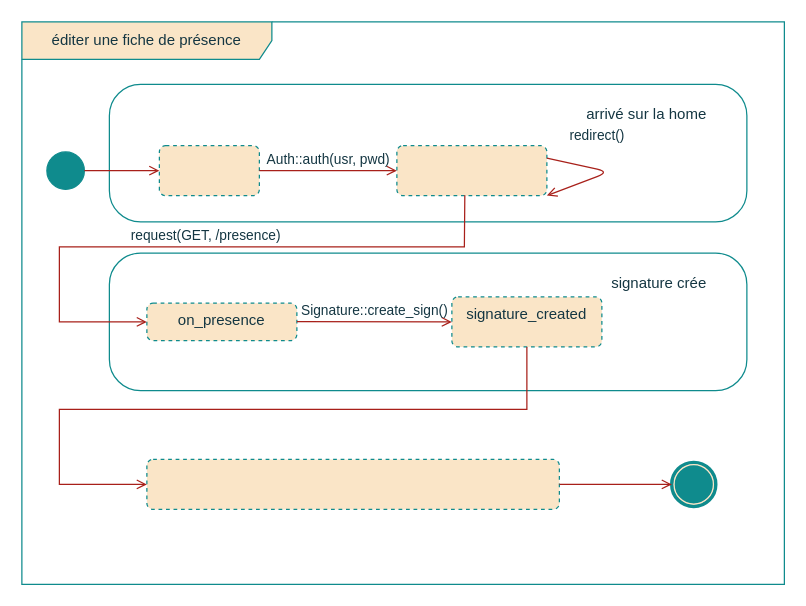
Some shapes in this 806 by 606 pixel diagram are drawn without their labels. The shapes that lost their labels are listed below. From the top down, each one's centre as x and y in pixels, then its label:
(208,170): not_logged
(471,170): logged when(auth() == true)
(352,483): edited when (length(signed_sessions) < length(sessions)) / after 12h
